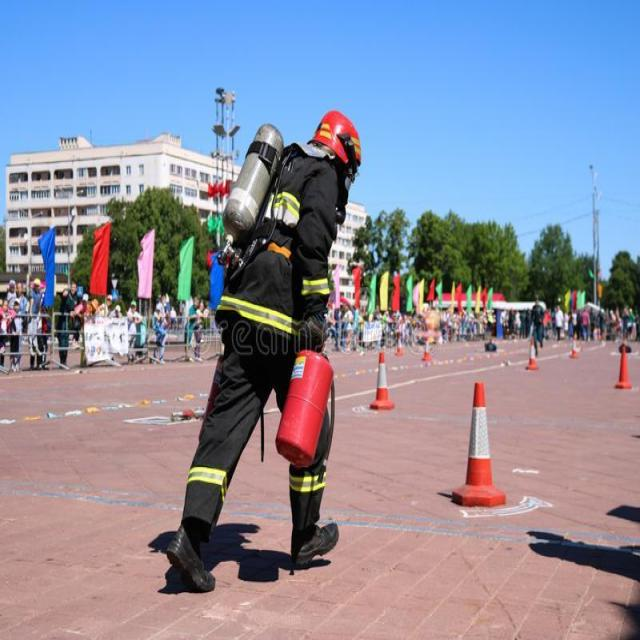fire_extinguisher: (276, 337, 343, 472)
